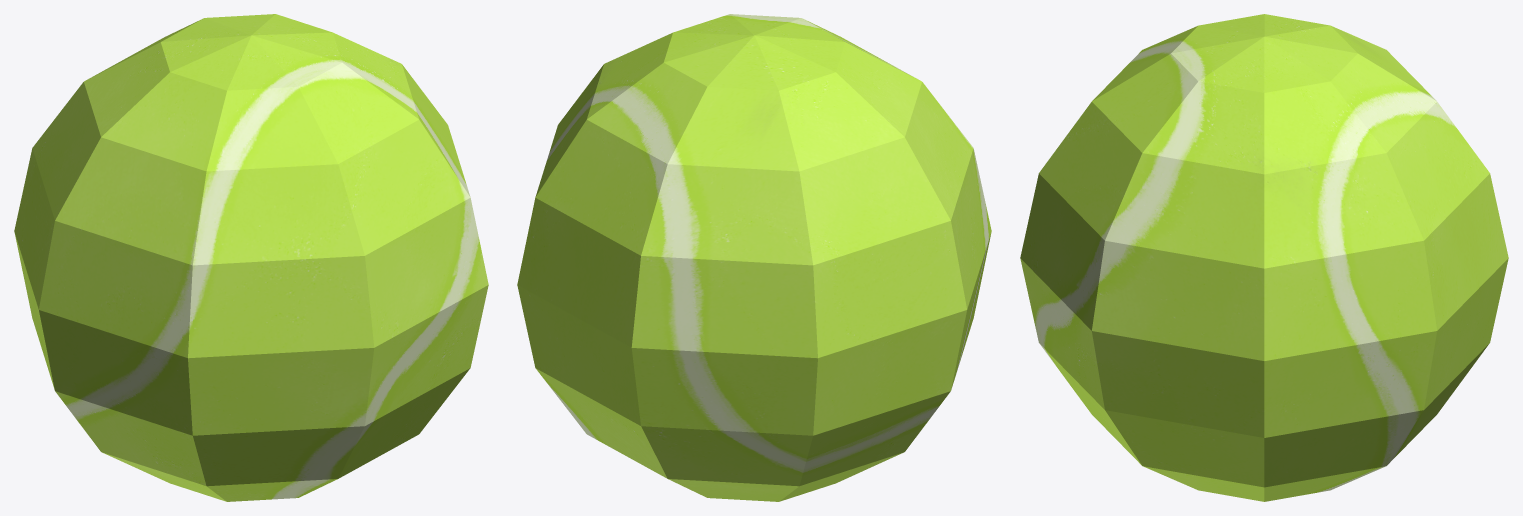
File: Tennis_Ball.obj
The picture shows the model from 3 angles, left to right: view 1: azimuth 30°, elevation 25°; view 2: azimuth 150°, elevation 25°; view 3: azimuth 270°, elevation 25°; orthographic projection.
Parts seen in each view (by area): view 1: UV_Sphere_UV_Sphere; view 2: UV_Sphere_UV_Sphere; view 3: UV_Sphere_UV_Sphere.
Part boxes in pixels (x1,y1,x2,y2): UV_Sphere_UV_Sphere: [14, 14, 488, 501]; UV_Sphere_UV_Sphere: [517, 14, 991, 501]; UV_Sphere_UV_Sphere: [1020, 14, 1508, 501].
Size of the model in its own units: 1 by 1 by 1.
1 material, 1 textured.
